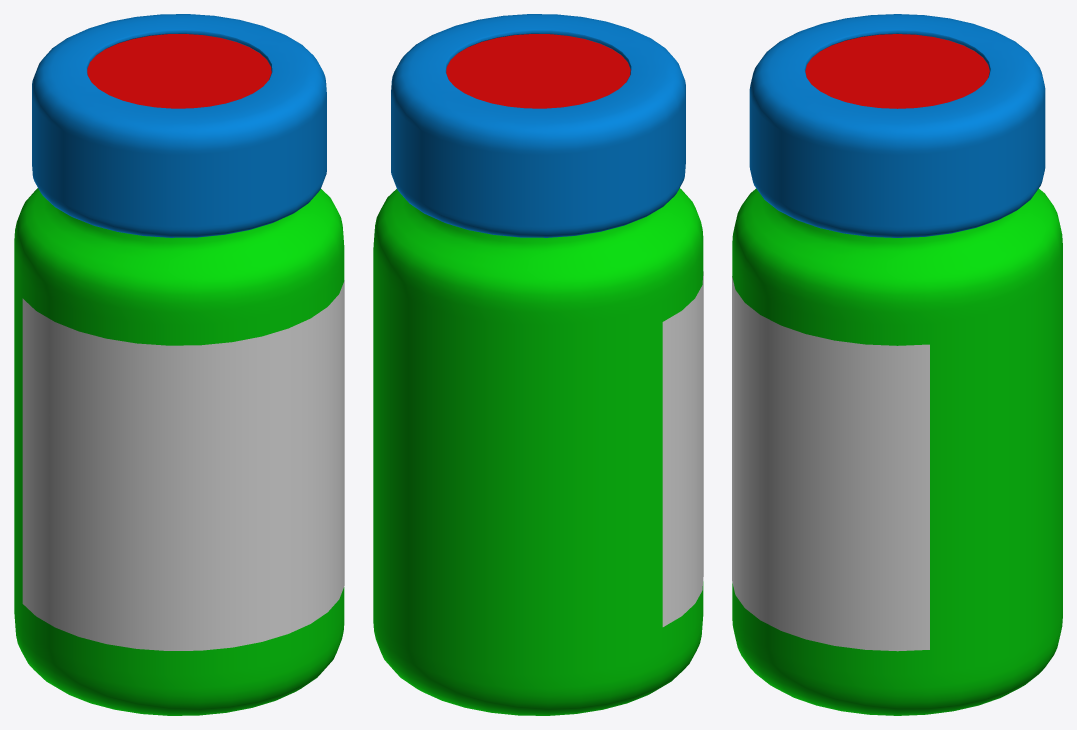
Rendered from Bottle.fbx.
3 renders of one model, left to right at view 1: azimuth 30°, elevation 25°; view 2: azimuth 150°, elevation 25°; view 3: azimuth 270°, elevation 25°, orthographic.
Parts seen in each view (by area): view 1: Bottle, Label; view 2: Bottle, Label; view 3: Bottle, Label.
Part boxes in pixels (x1=…): Bottle: x1=14, y1=14, x2=344, y2=715; Label: x1=22, y1=280, x2=344, y2=650; Bottle: x1=373, y1=14, x2=703, y2=715; Label: x1=662, y1=271, x2=703, y2=626; Bottle: x1=732, y1=14, x2=1062, y2=715; Label: x1=732, y1=276, x2=929, y2=651.
Bounding box in the file's own units: 5.16 × 10.13 × 5.15.
